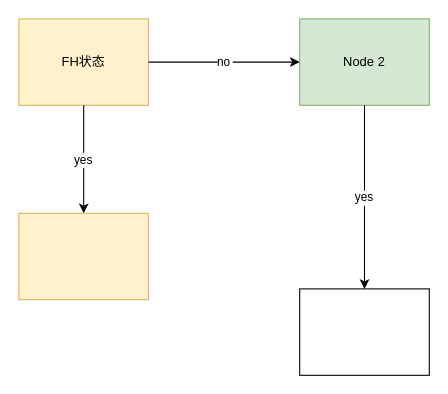
The diagram is 448 pixels wide and 394 high, and some of its shapes have lost their labels. The centre of each missing label's shape, as x and y in pixels:
Node 4: (x=364, y=331)
小区状态: (x=83, y=256)
